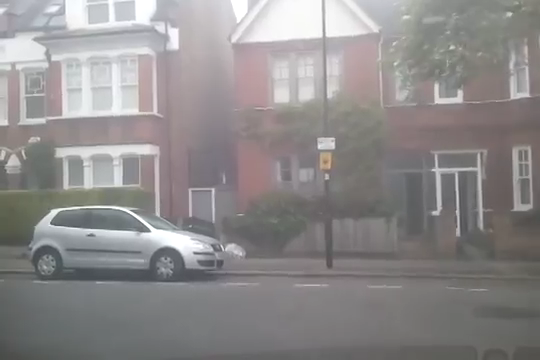car: (26, 203, 224, 283)
